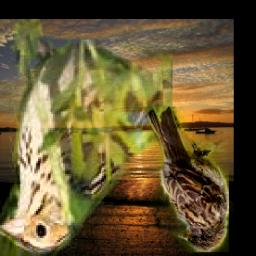Sparrow: (0, 19, 173, 256), (147, 107, 229, 253)
